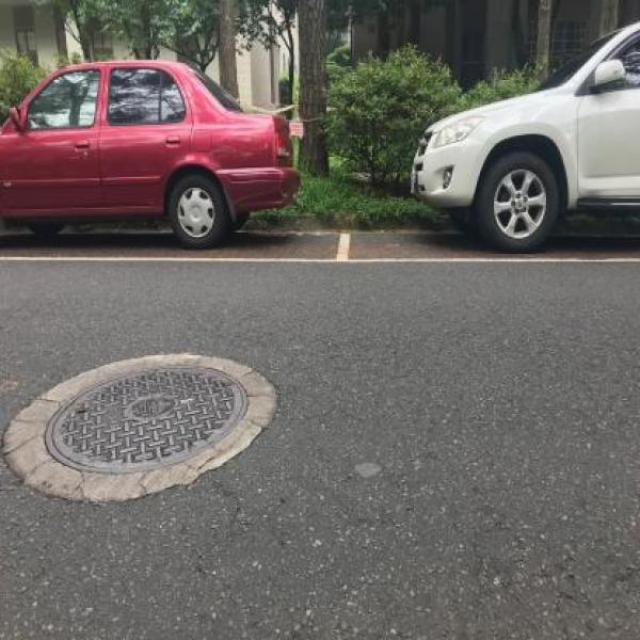Good: (36, 359, 260, 481)
